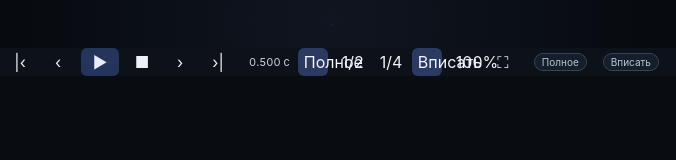
Test case: PreviewPlayer continuous transport › Stop during playback rewinds the transient transport without committing an edit
The image size is (676, 160).
Click the button named "Воспроизвести". click: (100, 62)
box: [81,48,119,76]
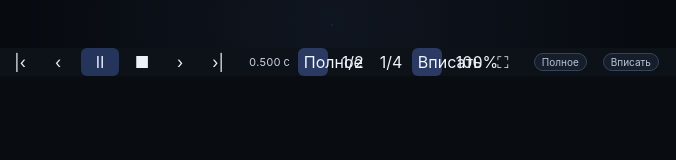
Result: the button named "Пауза" is shown at [81,48,119,76]
Click the button named "Остановить и вернуться к началу". click: (142, 62)
box: [127,48,157,76]
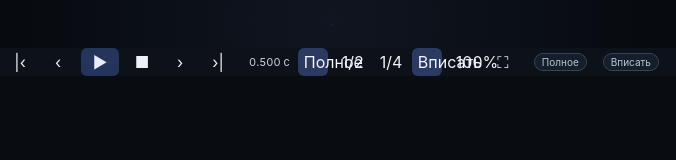
Result: the button named "Воспроизвести" is shown at [81,48,119,76]
